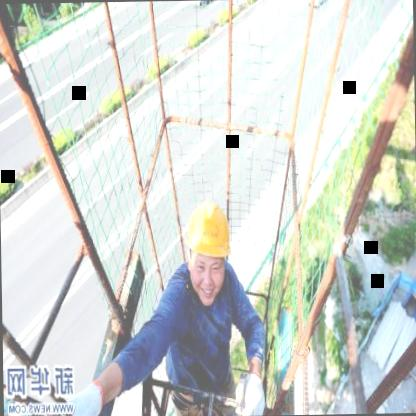helmet: (180, 190, 235, 301)
